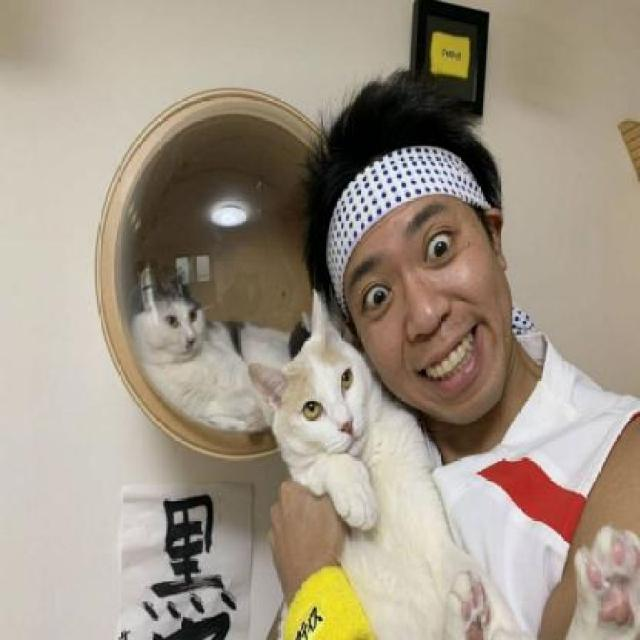cat: (244, 287, 639, 639), (121, 246, 308, 445)
